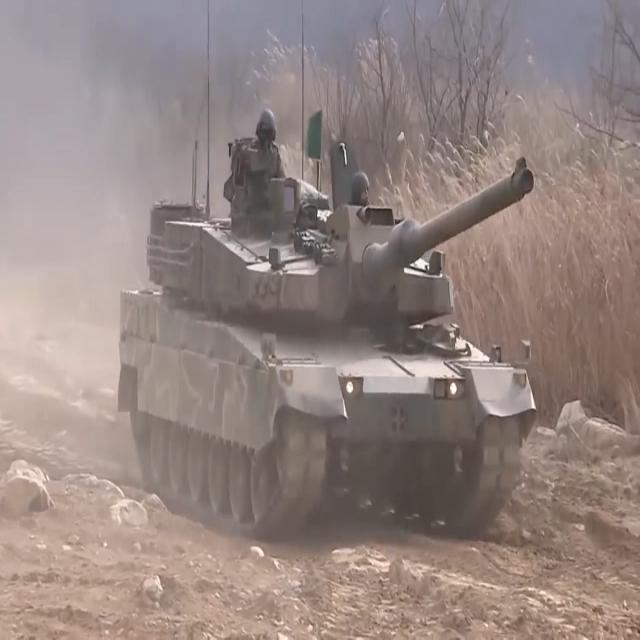korea tank: (114, 104, 536, 540)
